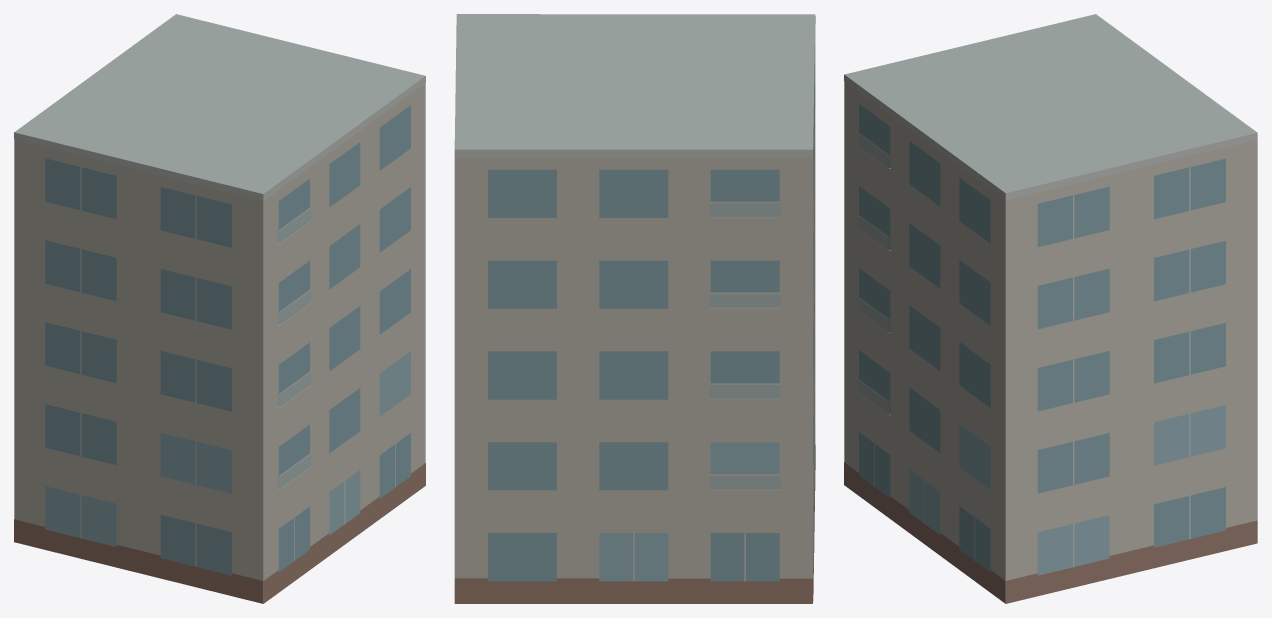
The model's file is survey-upis-32671491.glb.
The picture shows the model from 3 angles, left to right: view 1: azimuth 30°, elevation 25°; view 2: azimuth 150°, elevation 25°; view 3: azimuth 270°, elevation 25°; orthographic projection. The views are drawn at different scales.
Parts seen in each view (by area): view 1: survey-upis-32671491.tmp; view 2: survey-upis-32671491.tmp; view 3: survey-upis-32671491.tmp.
Boxes of the visible parts, <box> form: survey-upis-32671491.tmp: <box>14,14,425,603</box>; survey-upis-32671491.tmp: <box>454,14,815,603</box>; survey-upis-32671491.tmp: <box>844,14,1257,603</box>.
Size of the model in its own units: 13.4 by 14.3 by 13.06.
